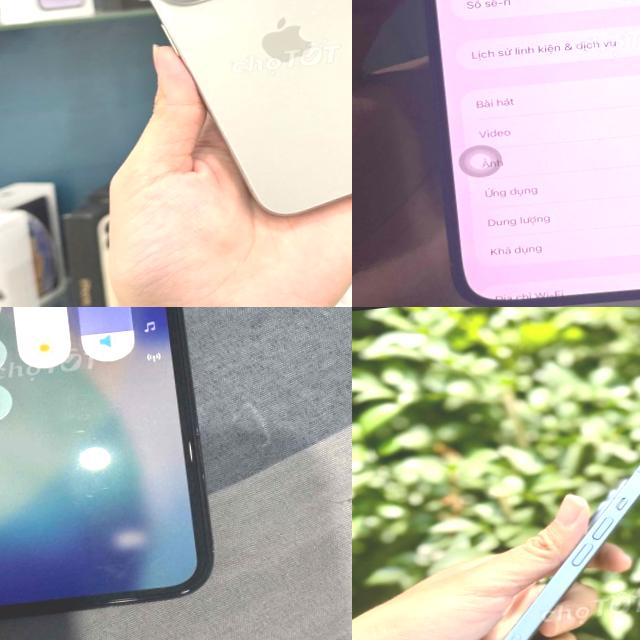gen_11: (0, 307, 217, 635)
gen_14: (397, 0, 640, 307), (413, 451, 640, 640)
gen_15: (94, 0, 352, 227)
